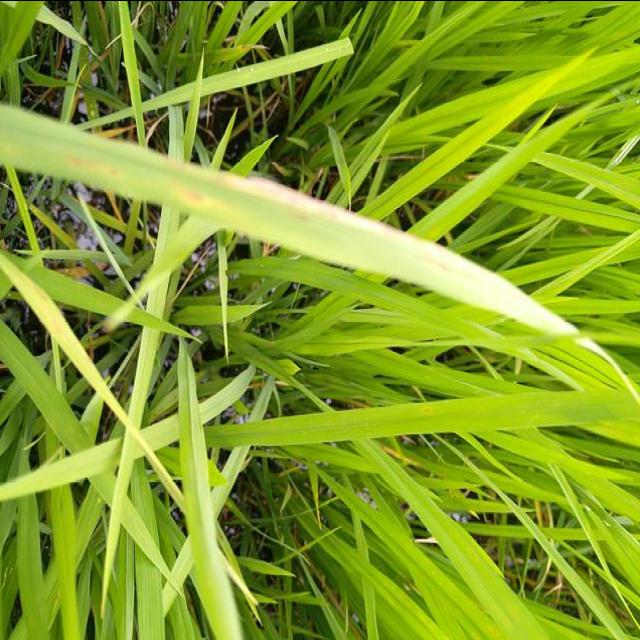Leaf Blight: (0, 103, 640, 409)
